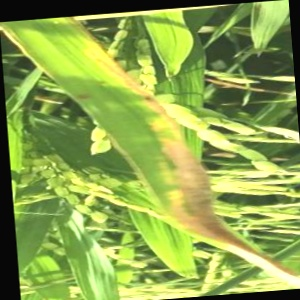Leaf_Blast: (134, 117, 191, 220)
